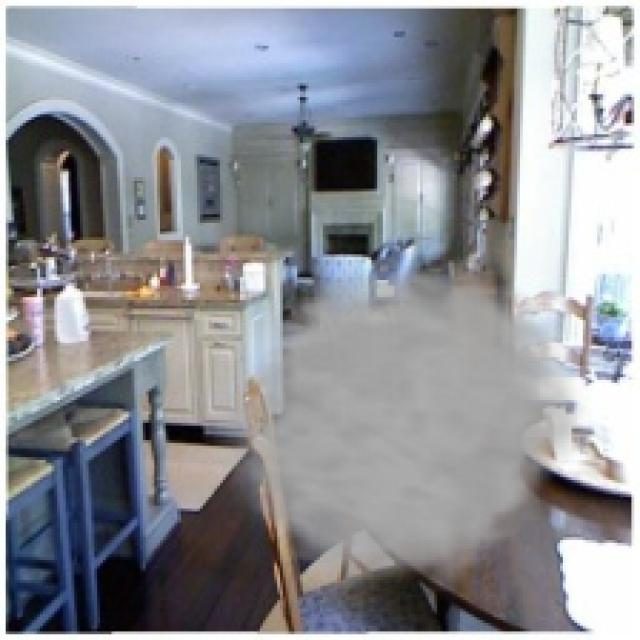smoke: (206, 243, 594, 591)
